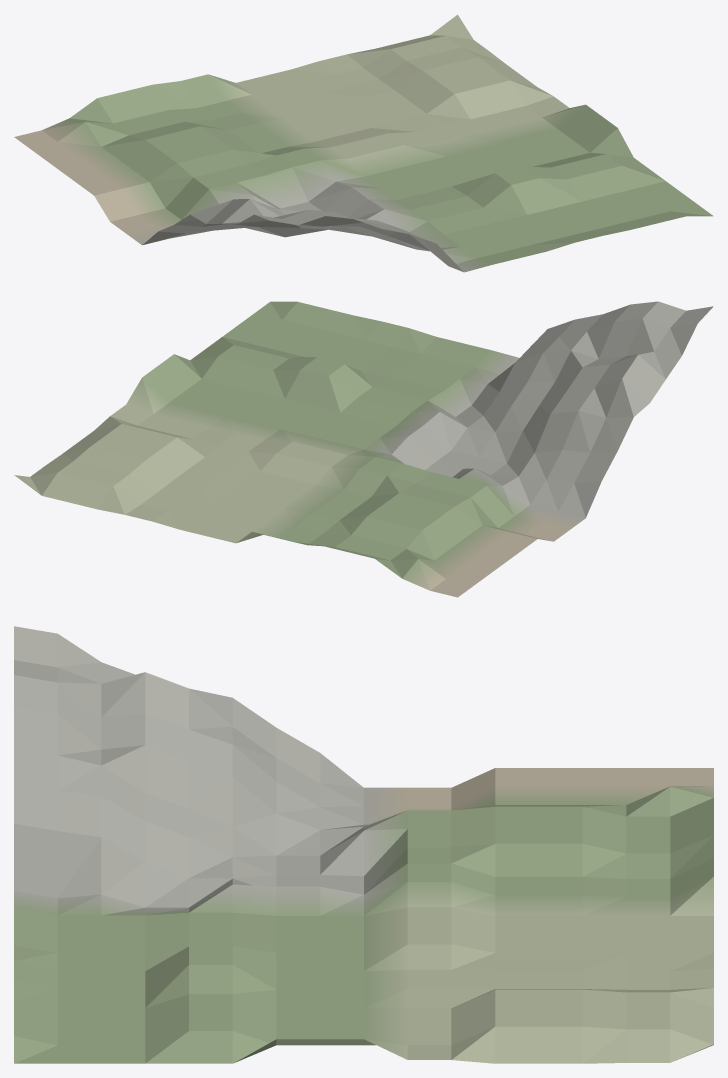
3 views of the same model, one above another, from view 1: azimuth 30°, elevation 25°; view 2: azimuth 150°, elevation 25°; view 3: azimuth 270°, elevation 25° (orthographic). The views are drawn at different scales.
Bounding box in the file's own units: 32 × 8.15 × 32.
